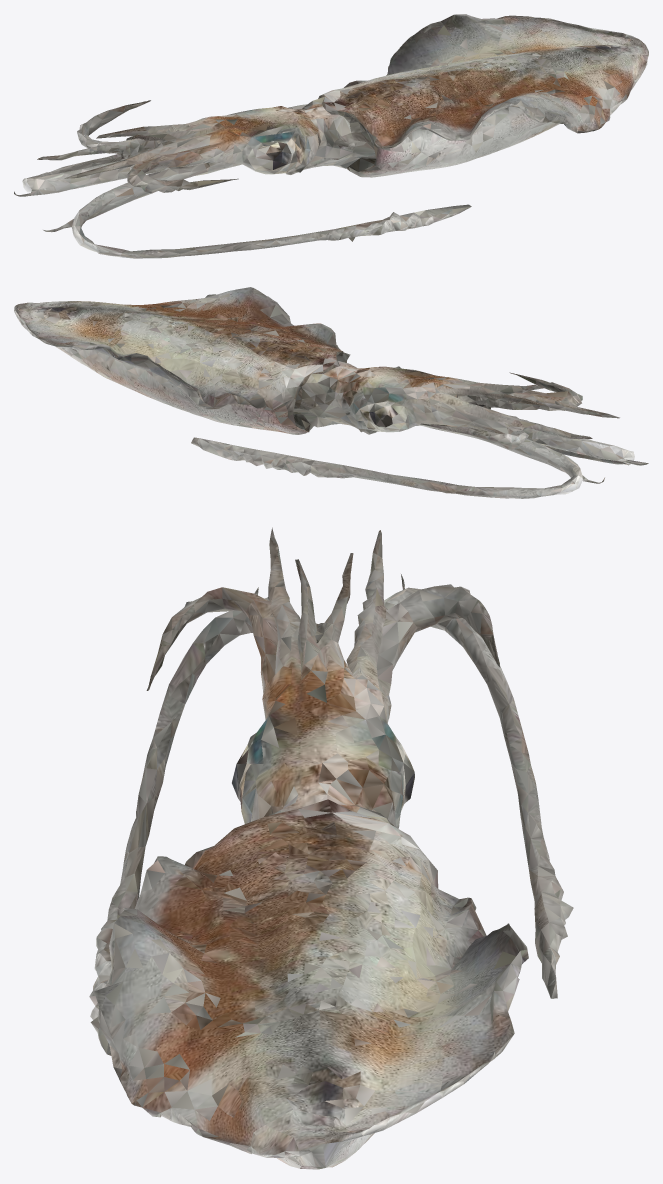
File: squid.glb
The picture shows the model from 3 angles, top to bottom: view 1: azimuth 30°, elevation 25°; view 2: azimuth 150°, elevation 25°; view 3: azimuth 270°, elevation 25°; orthographic projection. The views are drawn at different scales.
Parts seen in each view (by area): view 1: body; view 2: body; view 3: body.
Part boxes in pixels (bbox=[...]): body: bbox=[14, 14, 648, 258]; body: bbox=[14, 287, 648, 498]; body: bbox=[89, 527, 573, 1169].
Size of the model in its own units: 0.9994 by 0.1743 by 0.3414.
3 materials, 3 textured.
